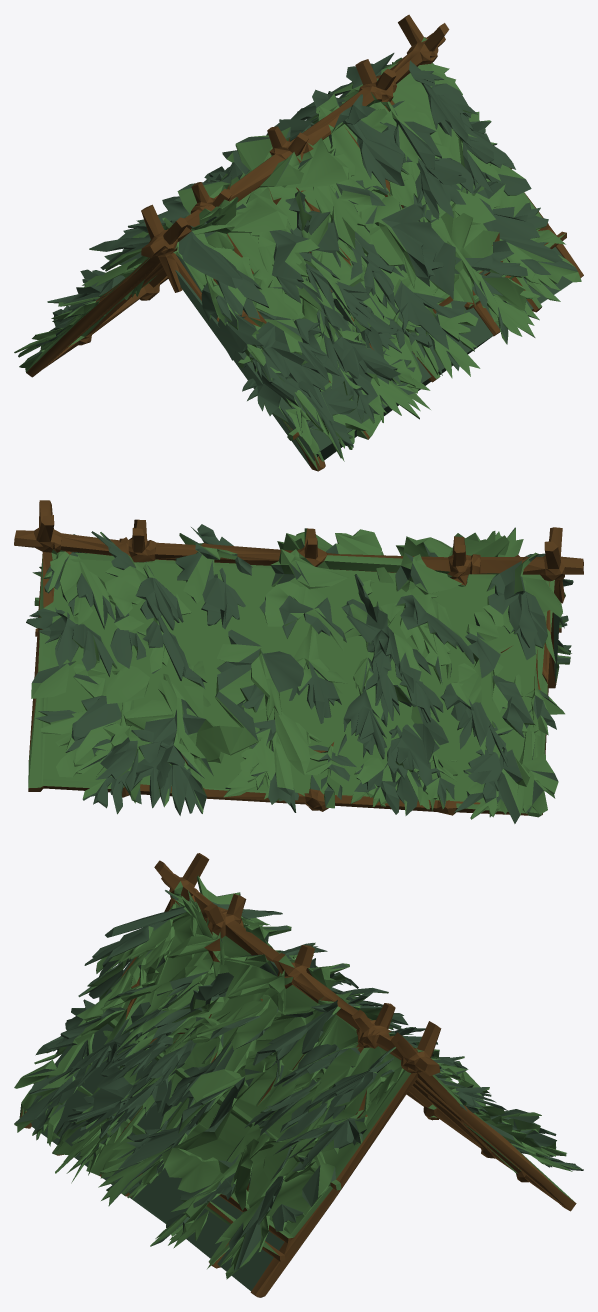
Rendered from stick_shelter.fbx.
3 views of the same model, one above another, from view 1: azimuth 30°, elevation 25°; view 2: azimuth 150°, elevation 25°; view 3: azimuth 270°, elevation 25° (orthographic). The views are drawn at different scales.
Parts seen in each view (by area): view 1: tripo_node_59f29d49-fd89-4aa5-8a4d-ebbb95184b74; view 2: tripo_node_59f29d49-fd89-4aa5-8a4d-ebbb95184b74; view 3: tripo_node_59f29d49-fd89-4aa5-8a4d-ebbb95184b74.
Part boxes in pixels (left/top/right/bottom): tripo_node_59f29d49-fd89-4aa5-8a4d-ebbb95184b74: left=14, top=14, right=583, bottom=471; tripo_node_59f29d49-fd89-4aa5-8a4d-ebbb95184b74: left=14, top=500, right=583, bottom=823; tripo_node_59f29d49-fd89-4aa5-8a4d-ebbb95184b74: left=14, top=853, right=583, bottom=1297.
Bounding box in the file's own units: 399 × 173 × 358.
1 material, 1 textured.
